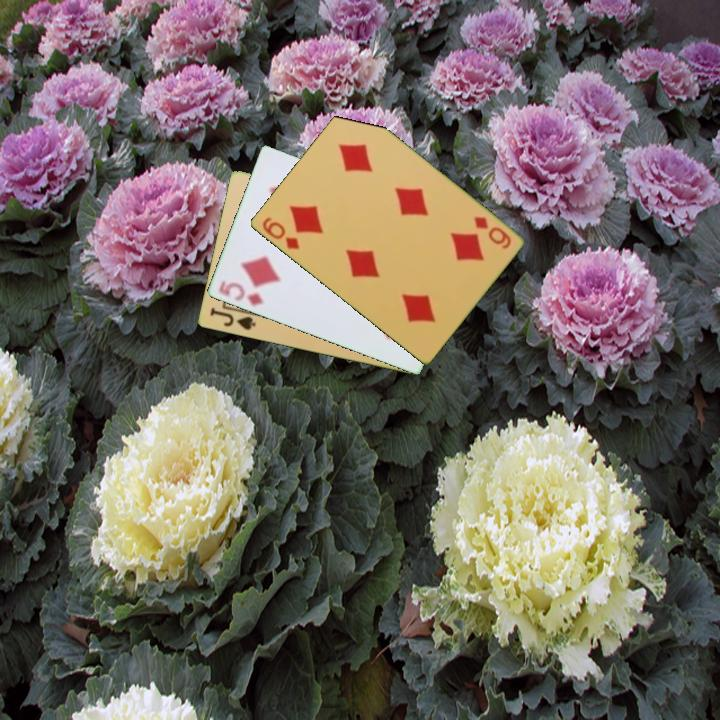5d: (215, 277, 266, 309)
6d: (258, 214, 302, 253), (470, 213, 514, 252)
Js: (206, 304, 258, 333)
